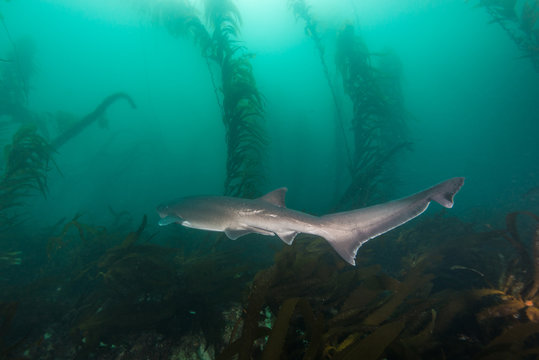Sevengill Shark: (149, 189, 467, 285)
